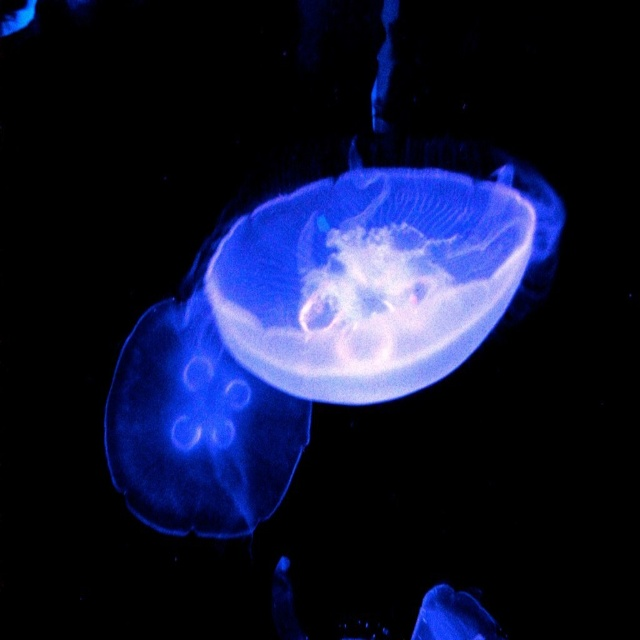Jellyfish: (0, 0, 567, 640)
